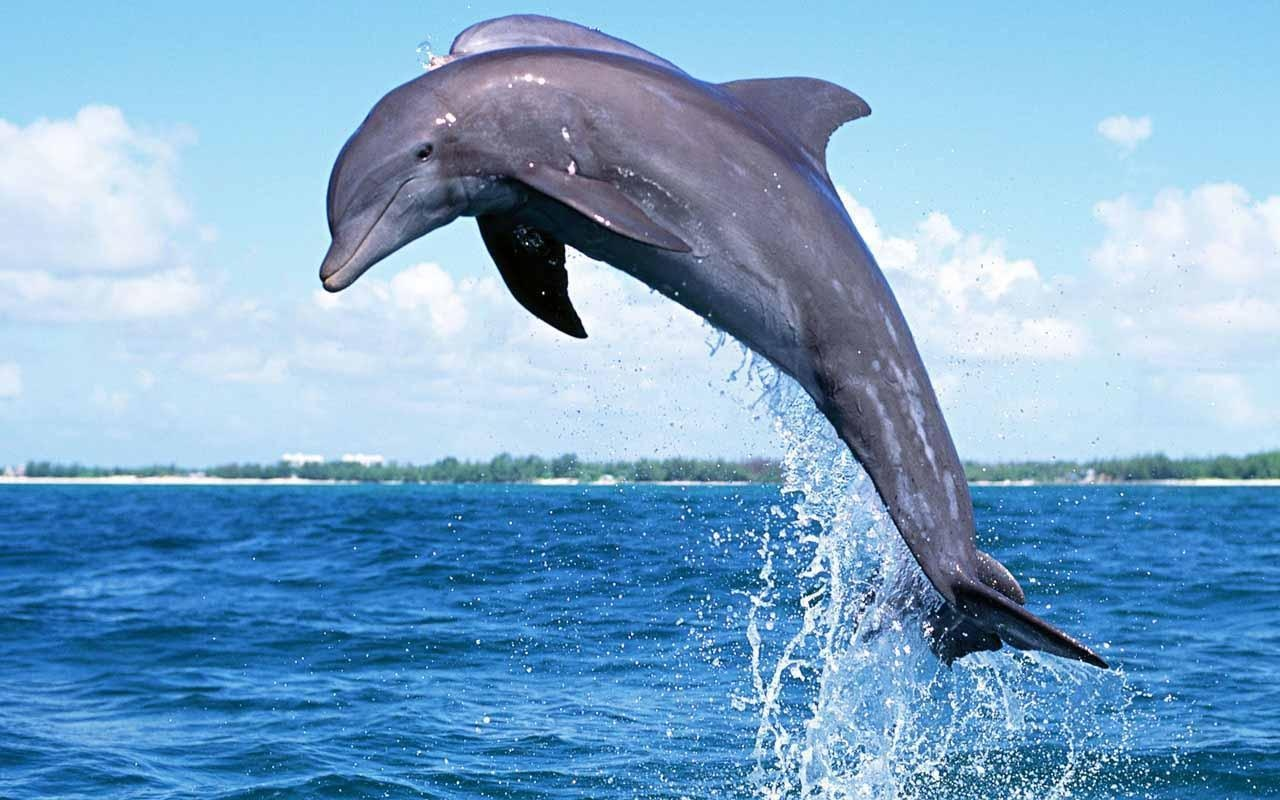fish: (307, 7, 1125, 679)
